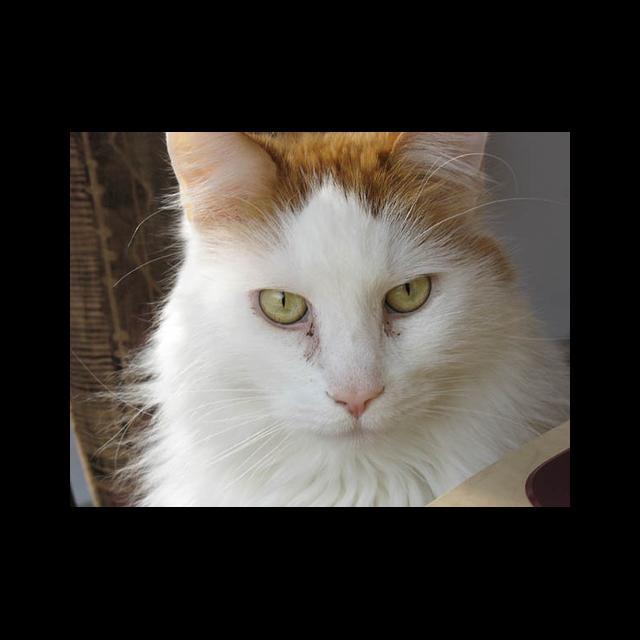animals: (172, 132, 474, 418)
